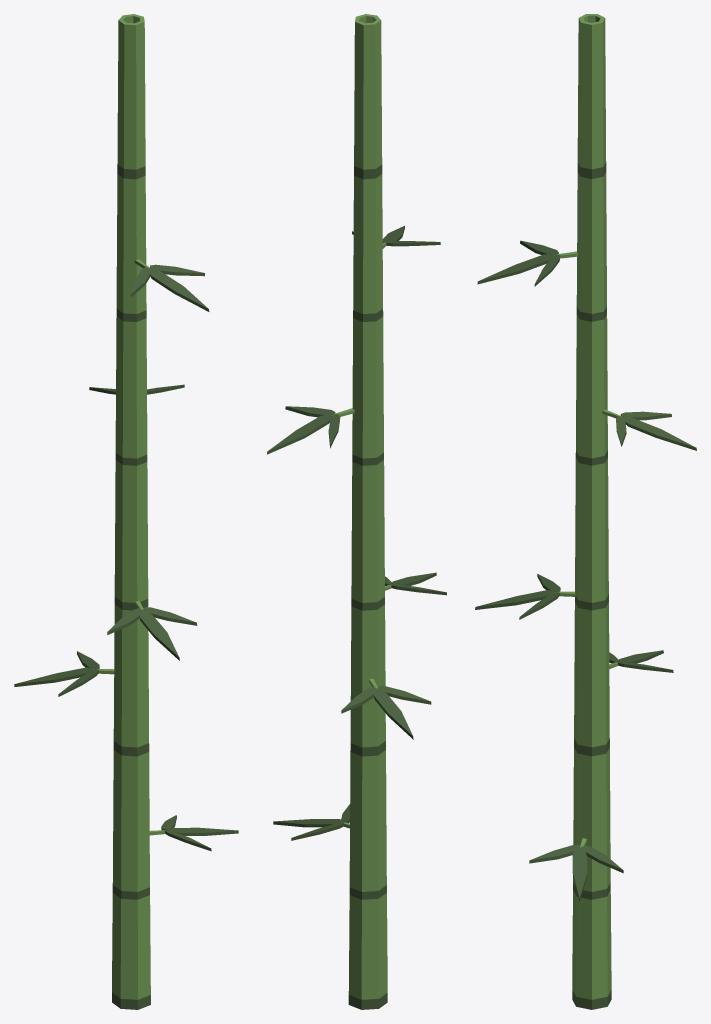
Rendered from Bamboo_4.gltf.
3 renders of one model, left to right at view 1: azimuth 30°, elevation 25°; view 2: azimuth 150°, elevation 25°; view 3: azimuth 270°, elevation 25°, orthographic.
Visible parts, largest first — view 1: Bamboo_4; view 2: Bamboo_4; view 3: Bamboo_4.
Boxes of the visible parts, x1,y1,x2,y2 form: Bamboo_4: (14,14,238,1009); Bamboo_4: (267,14,446,1009); Bamboo_4: (475,14,696,1009).
Size of the model in its own units: 0.5299 by 2.73 by 0.5582.
